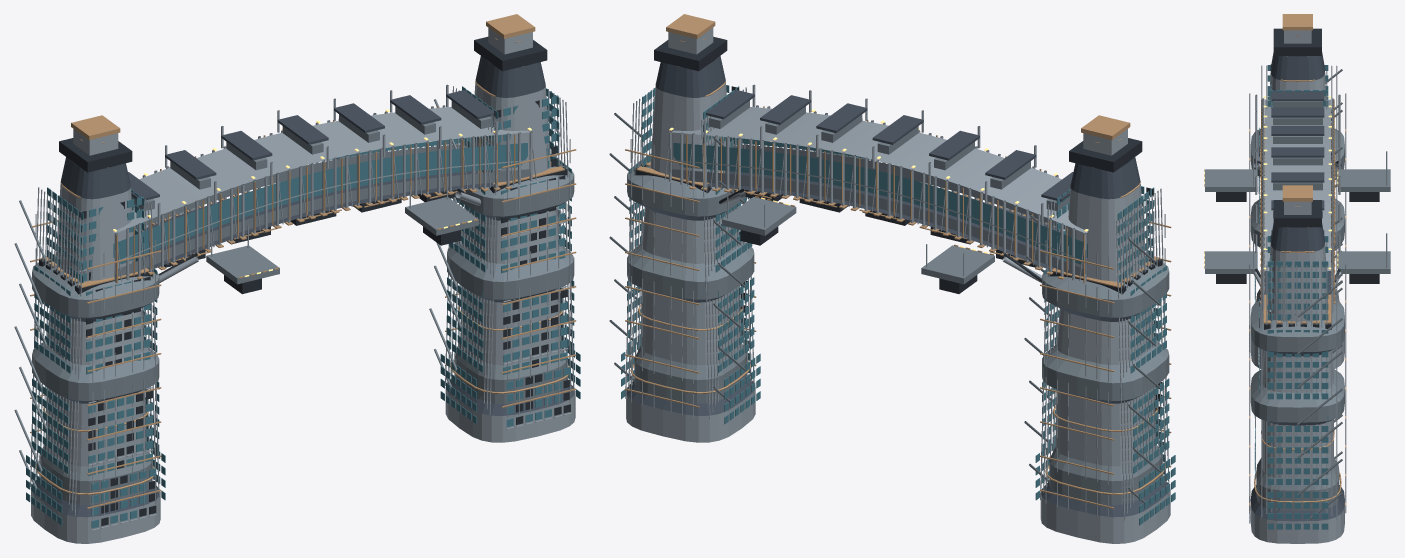
Rendered from aegis_megadock_r10.gltf.
3 renders of one model, left to right at view 1: azimuth 30°, elevation 25°; view 2: azimuth 150°, elevation 25°; view 3: azimuth 270°, elevation 25°, orthographic. The views are drawn at different scales.
Parts seen in each view (by area): view 1: R10_HeroCommandPort; view 2: R10_HeroCommandPort; view 3: R10_HeroCommandPort.
Part boxes in pixels (x1,y1,x2,y2): R10_HeroCommandPort: (14,14,580,543); R10_HeroCommandPort: (609,14,1175,543); R10_HeroCommandPort: (1204,14,1390,543).
Size of the model in its own units: 185 by 132 by 67.26.
